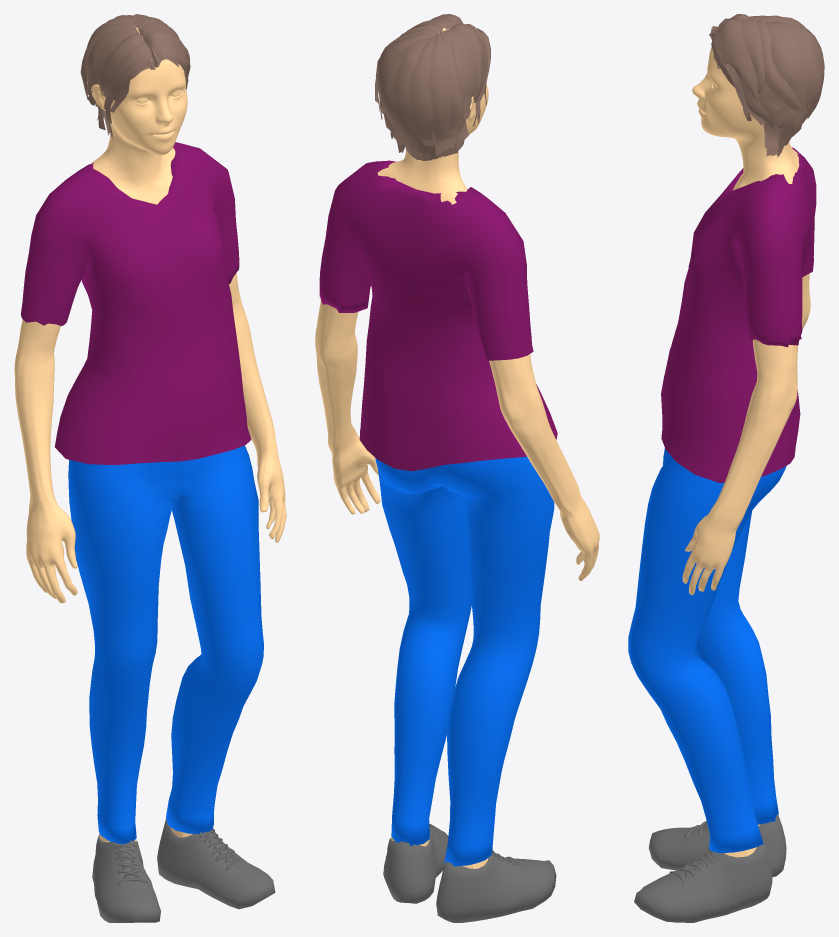
Rendered from Woman_07_Standing-transformed.glb.
3 renders of one model, left to right at view 1: azimuth 30°, elevation 25°; view 2: azimuth 150°, elevation 25°; view 3: azimuth 270°, elevation 25°, orthographic. The views are drawn at different scales.
Parts seen in each view (by area): view 1: Top.001, Bottoms.001, Body.001, Shoes.001, Hair.001; view 2: Bottoms.001, Top.001, Body.001, Hair.001, Shoes.001; view 3: Bottoms.001, Top.001, Body.001, Hair.001, Shoes.001.
Boxes of the visible parts, x1,y1,x2,y2 form: Top.001: (20,142,251,465); Bottoms.001: (68,445,263,844); Body.001: (14,25,286,842); Shoes.001: (92,817,275,922); Hair.001: (80,14,190,138); Bottoms.001: (375,456,554,866); Top.001: (319,160,557,471); Body.001: (315,27,599,868); Hair.001: (375,14,490,160); Shoes.001: (383,824,556,922); Bottoms.001: (628,448,786,853); Top.001: (661,147,816,482); Body.001: (682,21,810,857); Hair.001: (709,14,824,157); Shoes.001: (634,814,786,922).
Size of the model in its own units: 0.5079 by 1.67 by 0.3422.
